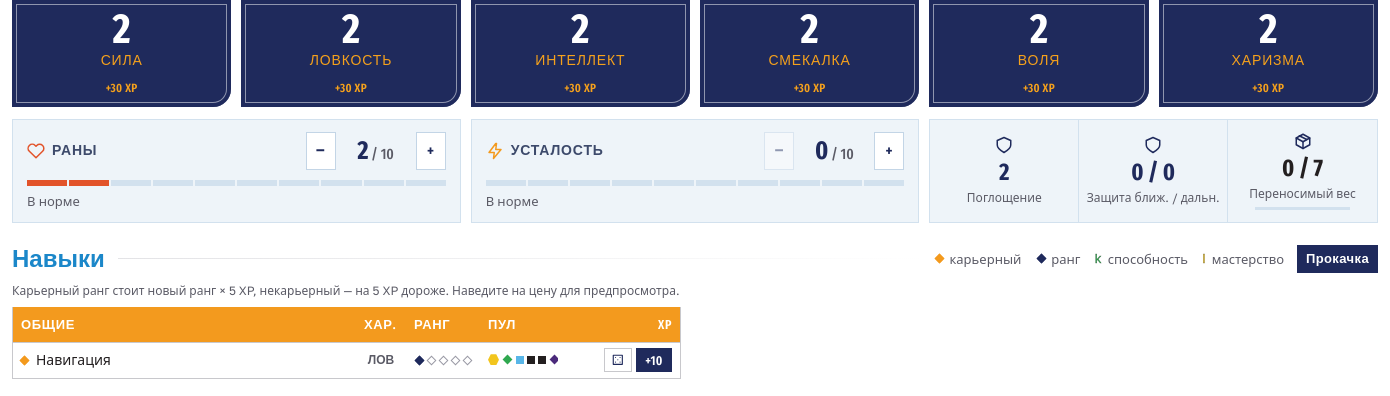
redesigned sheet › persists progression per character and removes editing controls from a readonly sheet
This screenshot has width=1390, height=396.
Click the button "Прокачка". click: (1338, 259)
box: x1=1297 y1=245 x2=1378 y2=273
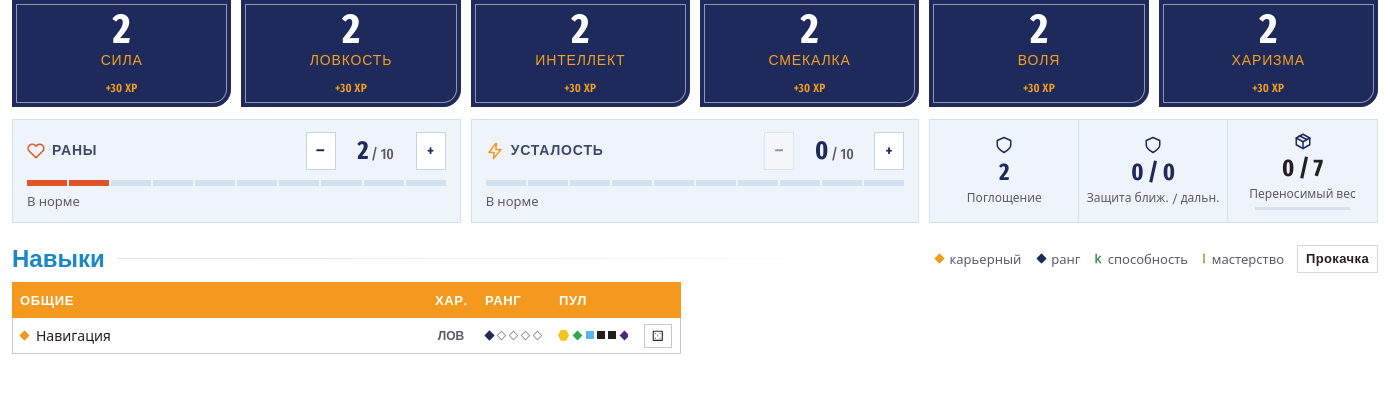
Result: the button with class "rd-buy" is gone
